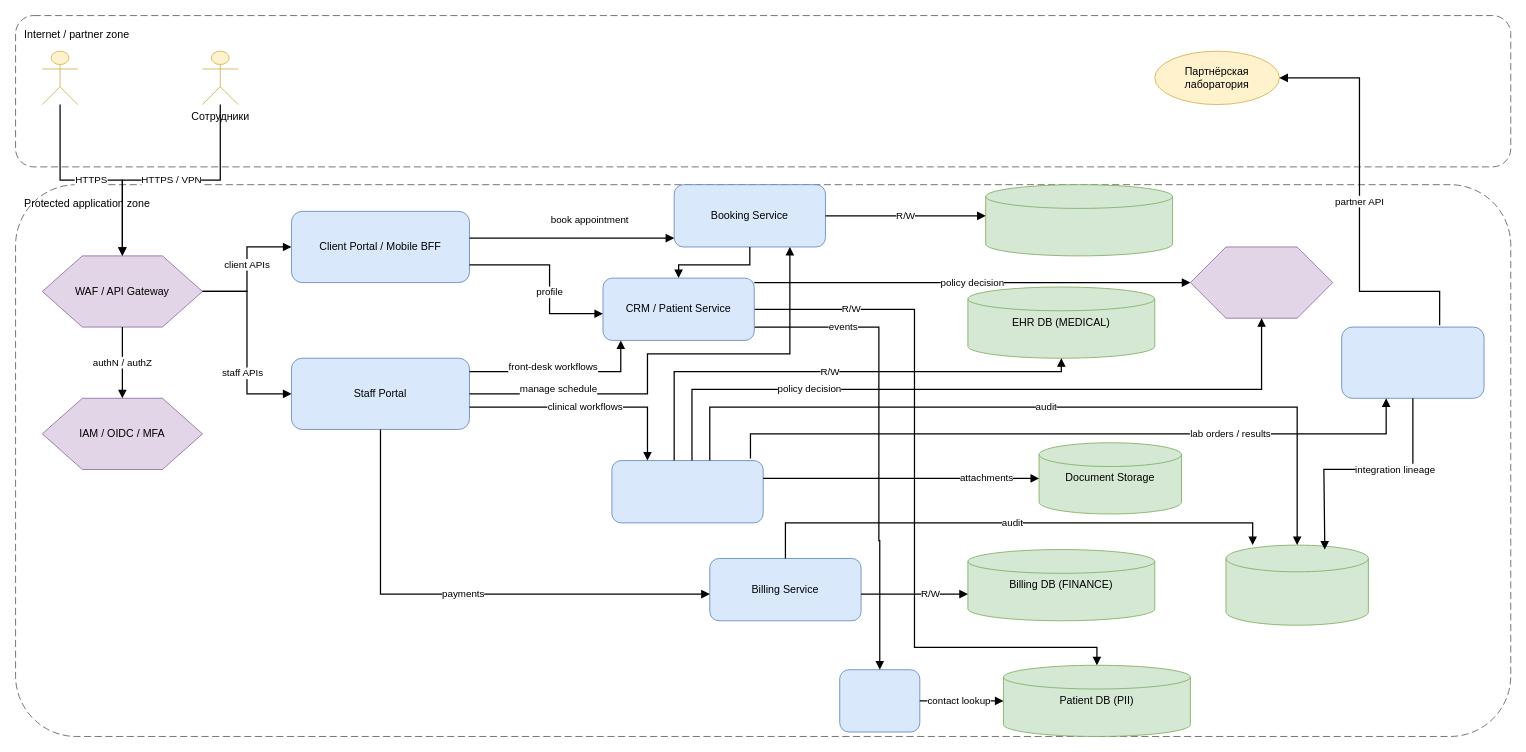
Some shapes in this 1526 by 752 pixel diagram are drawn without their labels. Here are the shapes that lost their labels. From the top down, the centre of each, then its label:
(59,77): Пациент
(1079,220): Scheduling DB
(1261,282): Policy Engine / ABAC
(1412,362): Partner Integration Service
(687,491): Medical Record Service
(1296,584): Audit / SIEM / lineage
(879,700): Notification Service
